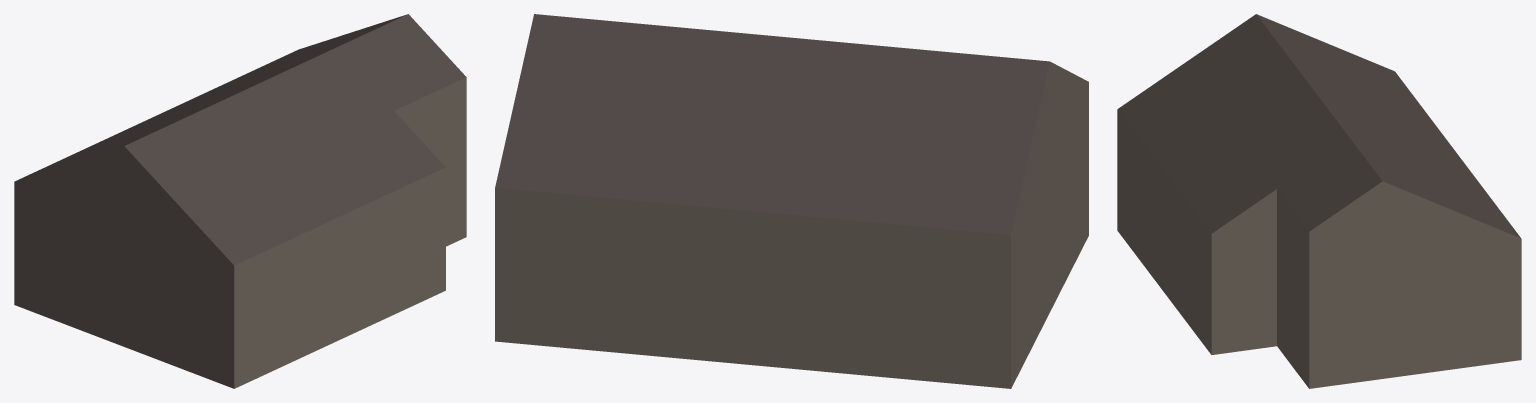
The picture shows the model from 3 angles, left to right: view 1: azimuth 30°, elevation 25°; view 2: azimuth 150°, elevation 25°; view 3: azimuth 270°, elevation 25°; orthographic projection. The views are drawn at different scales.
Visible parts, largest first — view 1: HP-w1198645100; view 2: HP-w1198645100; view 3: HP-w1198645100.
Boxes of the visible parts, box(x1,y1,x2,y2) form: HP-w1198645100: box(14, 14, 466, 388); HP-w1198645100: box(495, 14, 1088, 388); HP-w1198645100: box(1117, 14, 1521, 388).
Bounding box in the file's own units: 20.83 × 9.78 × 18.13.
